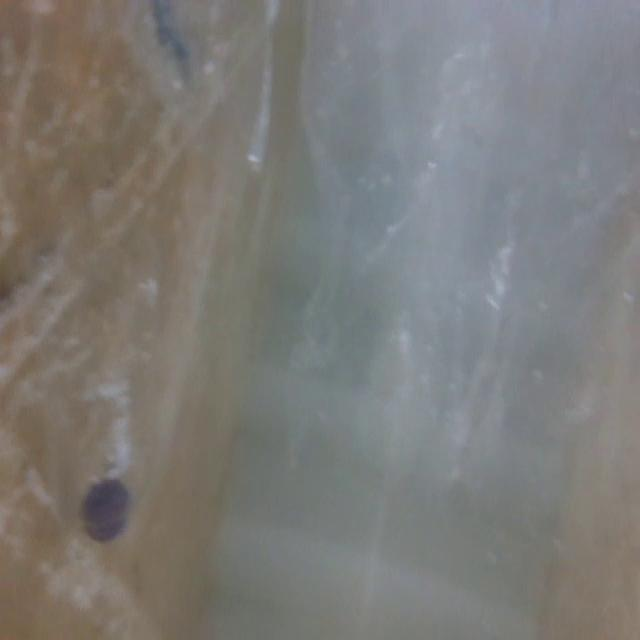plastic bags: (315, 0, 640, 472), (87, 0, 280, 171)
plastic bottle: (16, 192, 163, 568)
